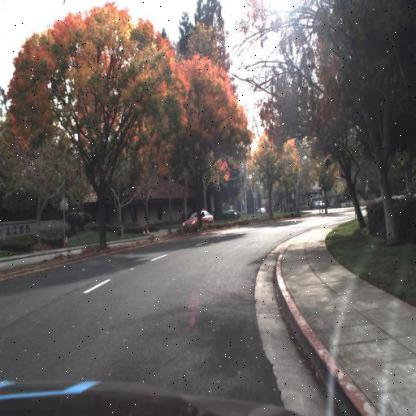car: (180, 209, 214, 227), (313, 198, 328, 210), (259, 205, 267, 215)
